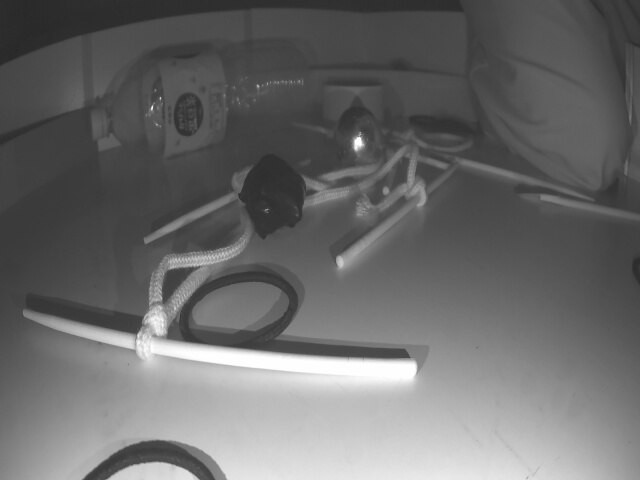Dead: (239, 154, 310, 236)
Live: (334, 107, 389, 173)
Point: (307, 60, 476, 126), (0, 108, 95, 220)
